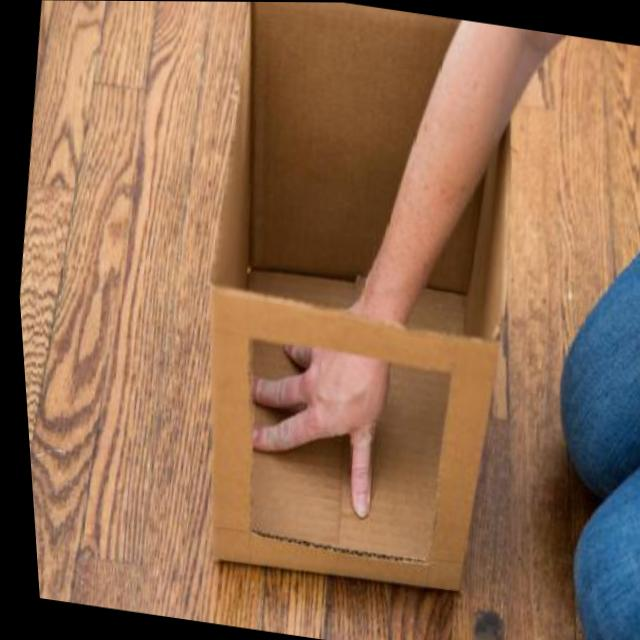box: (143, 1, 565, 631)
